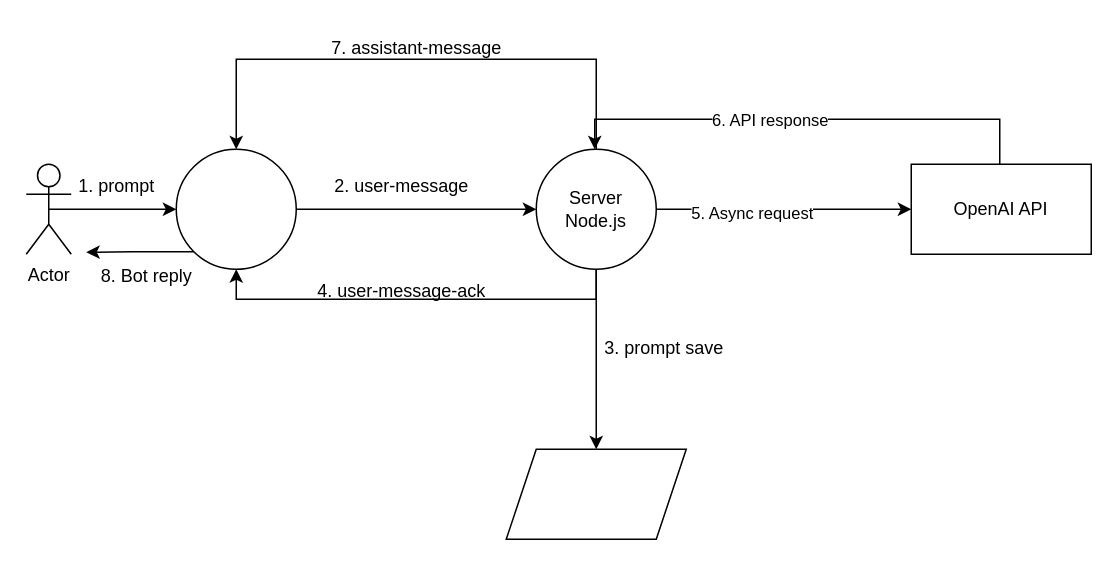
The diagram is 1118 pixels wide and 566 high, and some of its shapes have lost their labels. Each missing label, with the box of its shape:
Client Browser: (175, 148, 296, 269)
MongoDB: (505, 448, 686, 539)
